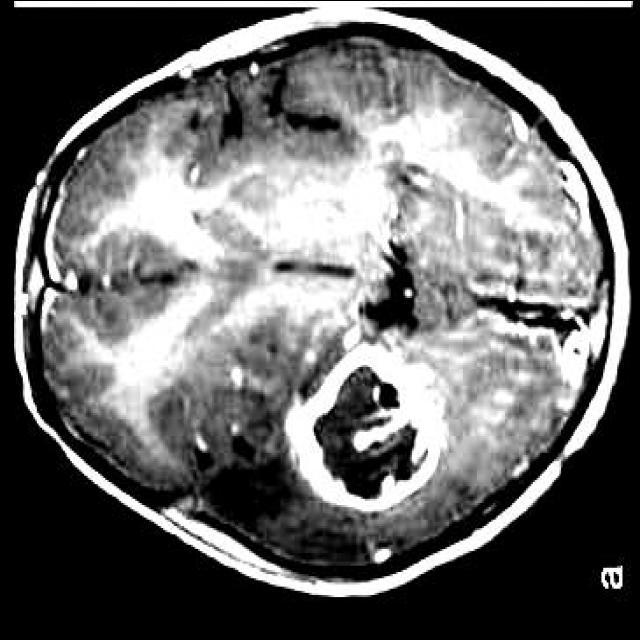tumor: (291, 341, 449, 508)
